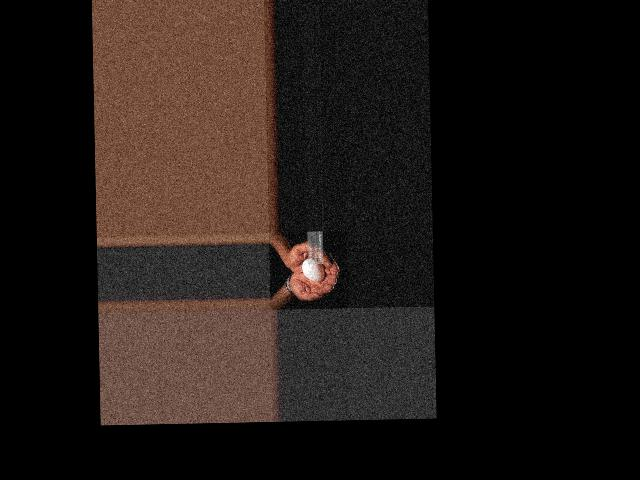egg: (302, 259, 325, 282)
